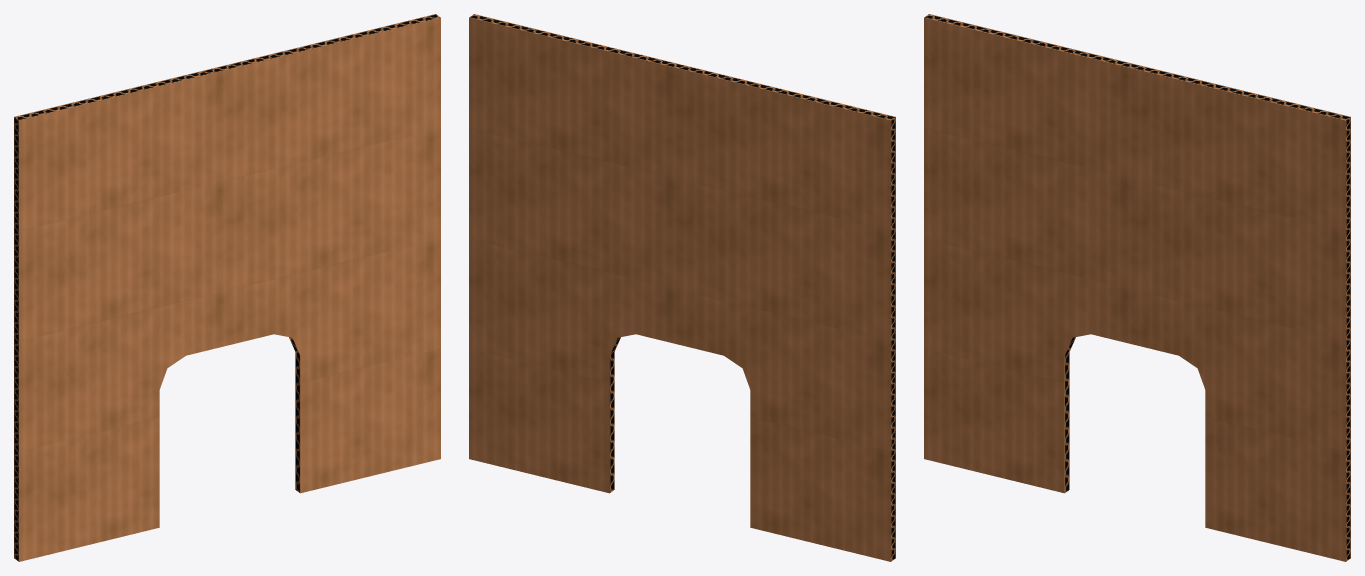
The model's file is M_CardboardPanel_Door.fbx.
The picture shows the model from 3 angles, left to right: view 1: azimuth 30°, elevation 25°; view 2: azimuth 150°, elevation 25°; view 3: azimuth 330°, elevation 25°; orthographic projection.
Visible parts, largest first — view 1: Panel_Front (×4), Edge_Top, Edge_Left (×4), Edge_Door_Frame; view 2: Panel_Back (×4), Edge_Top, Edge_Left (×4), Edge_Door_Frame; view 3: Panel_Front (×4), Edge_Top, Edge_Right (×4), Edge_Door_Frame.
Boxes of the visible parts, <box> form: Panel_Front (×4): <box>19,17,440,561</box>; Edge_Top: <box>14,14,440,120</box>; Edge_Left (×4): <box>14,117,18,561</box>; Edge_Door_Frame: <box>295,379,300,492</box>; Panel_Back (×4): <box>469,17,890,561</box>; Edge_Top: <box>469,14,895,120</box>; Edge_Left (×4): <box>891,117,895,561</box>; Edge_Door_Frame: <box>609,379,614,492</box>; Panel_Front (×4): <box>924,17,1345,561</box>; Edge_Top: <box>924,14,1350,120</box>; Edge_Right (×4): <box>1346,117,1350,561</box>; Edge_Door_Frame: <box>1064,379,1069,492</box>.
Size of the model in its own units: 12 by 12 by 0.25.
